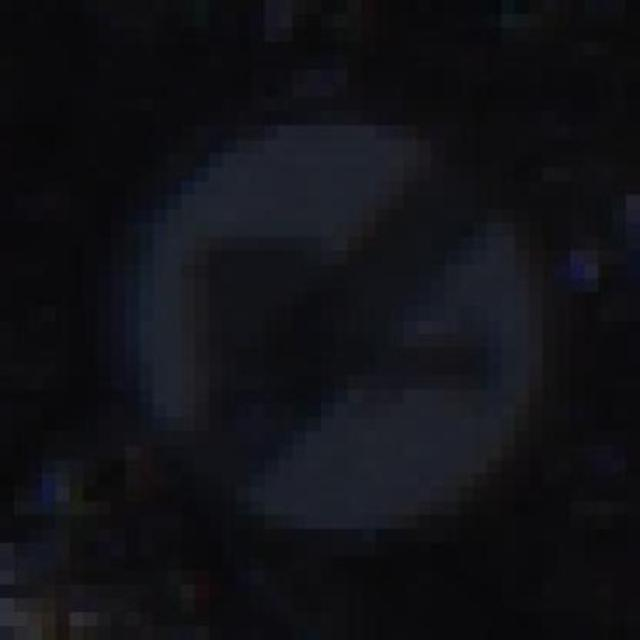Overtaking by trucks is prohibited: (70, 69, 598, 557)
